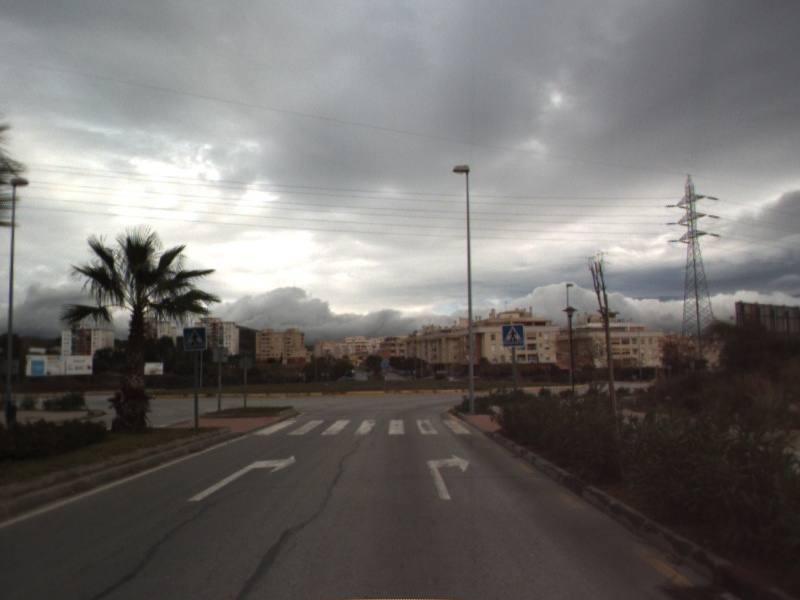RIGHT: (186, 453, 297, 503), (425, 451, 472, 501)
